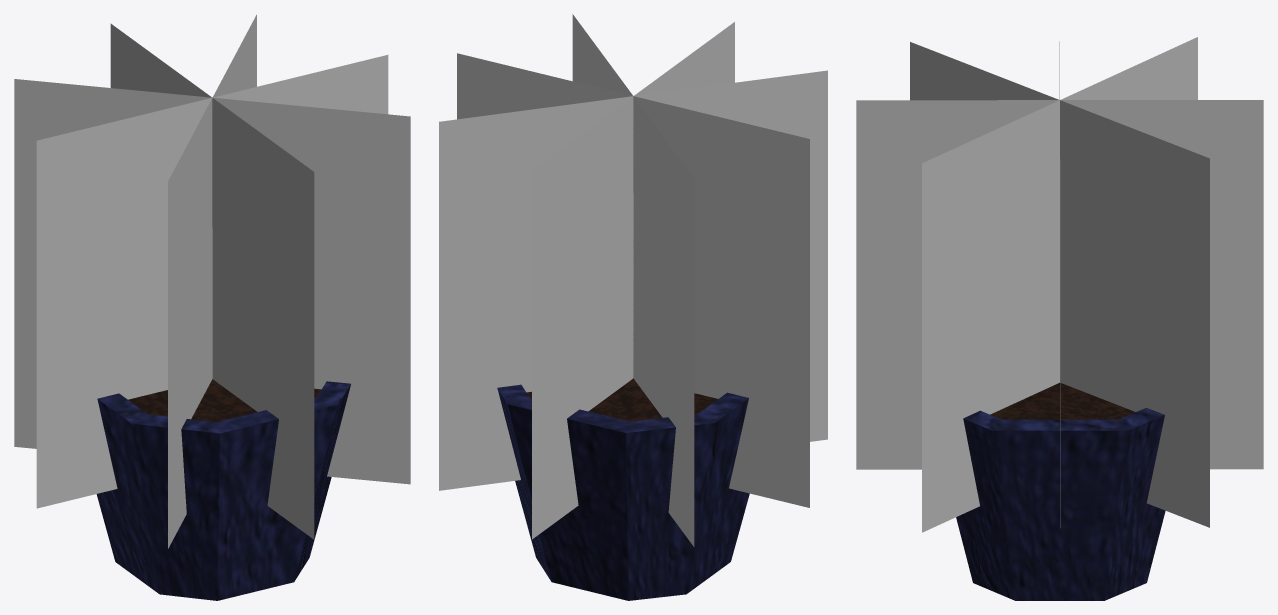
File: Pot.fbx
3 views of the same model, side by side, from view 1: azimuth 30°, elevation 25°; view 2: azimuth 150°, elevation 25°; view 3: azimuth 270°, elevation 25° (orthographic).
Visible parts, largest first — view 1: 00_bush, 03_bush, 02_bush, Pot, 01_bush; view 2: 01_bush, 03_bush, 02_bush, Pot, 00_bush; view 3: 02_bush, 01_bush, 00_bush, Pot.
Part boxes in pixels (left/top/right/bottom): 00_bush: left=14, top=79, right=410, bottom=484; 03_bush: left=36, top=55, right=388, bottom=508; 02_bush: left=110, top=23, right=314, bottom=539; Pot: left=96, top=379, right=350, bottom=600; 01_bush: left=168, top=14, right=256, bottom=548; 01_bush: left=439, top=70, right=827, bottom=490; 03_bush: left=457, top=53, right=809, bottom=507; 02_bush: left=532, top=22, right=734, bottom=539; Pot: left=497, top=378, right=749, bottom=600; 00_bush: left=572, top=14, right=694, bottom=546; 02_bush: left=856, top=100, right=1263, bottom=469; 01_bush: left=910, top=42, right=1209, bottom=527; 00_bush: left=922, top=37, right=1197, bottom=532; Pot: left=956, top=382, right=1165, bottom=600.
Bounding box in the file's own units: 224 × 282 × 224.
